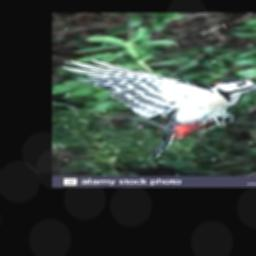Woodpecker: (63, 58, 256, 158)
